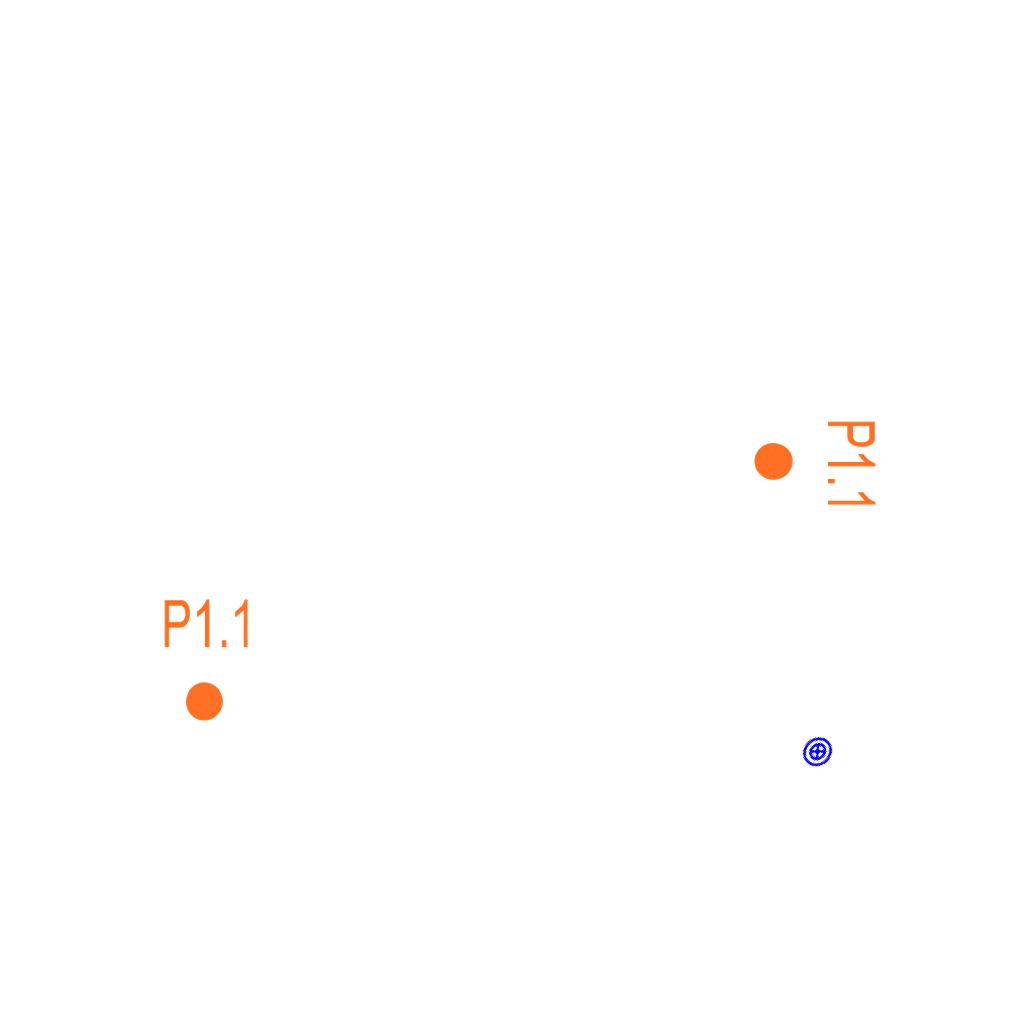Downlight_LED_Einbauleuchten_Flur: (751, 418, 879, 511), (161, 596, 254, 724)
Taster_beleuchtet: (794, 728, 841, 775)
